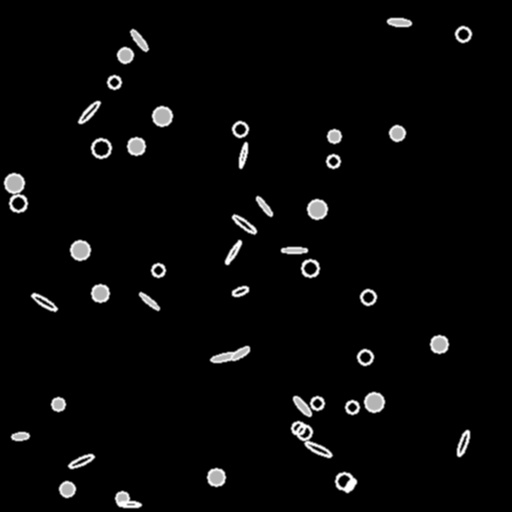pseudomonas: (230, 212, 258, 236), (77, 99, 101, 125), (30, 291, 58, 313), (304, 440, 332, 458), (67, 452, 95, 470), (291, 395, 313, 417), (129, 28, 149, 52), (224, 239, 242, 265), (455, 429, 471, 457), (138, 291, 160, 311), (255, 196, 273, 216), (230, 345, 250, 361), (211, 351, 237, 363), (238, 143, 248, 167), (343, 477, 357, 493), (231, 285, 249, 297), (388, 18, 410, 26), (11, 432, 29, 440), (118, 501, 140, 507), (282, 247, 306, 252)
synechocystis: (365, 393, 383, 411), (71, 241, 89, 259), (5, 174, 23, 192), (92, 139, 110, 157), (308, 200, 326, 218), (153, 107, 171, 125), (208, 469, 224, 485), (336, 473, 352, 489), (302, 260, 318, 276), (10, 195, 26, 211), (128, 138, 144, 154), (92, 285, 108, 301), (431, 336, 447, 352), (297, 425, 311, 439), (233, 122, 247, 136), (456, 27, 470, 41), (390, 126, 404, 140), (60, 482, 74, 496), (118, 48, 132, 62), (358, 350, 372, 364), (361, 290, 375, 304), (292, 422, 304, 434), (52, 398, 64, 410), (328, 130, 340, 142), (311, 397, 323, 409), (116, 492, 128, 504), (327, 155, 339, 167), (152, 264, 164, 276), (108, 76, 120, 88), (346, 401, 358, 413)
